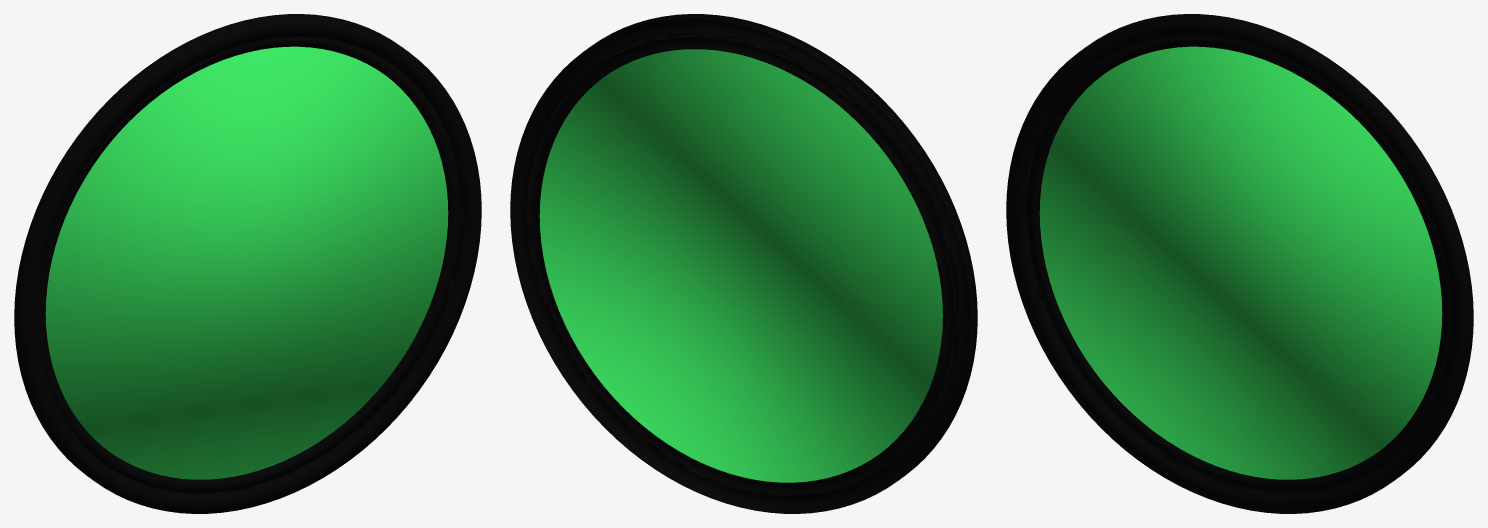
3 renders of one model, left to right at view 1: azimuth 30°, elevation 25°; view 2: azimuth 150°, elevation 25°; view 3: azimuth 330°, elevation 25°, orthographic.
Visible parts, largest first — view 1: Circle; view 2: Circle; view 3: Circle.
Boxes of the visible parts, <box> form: Circle: <box>14,14,481,513</box>; Circle: <box>510,14,977,513</box>; Circle: <box>1006,14,1473,513</box>.
Size of the model in its own units: 2 by 0.05 by 2.
